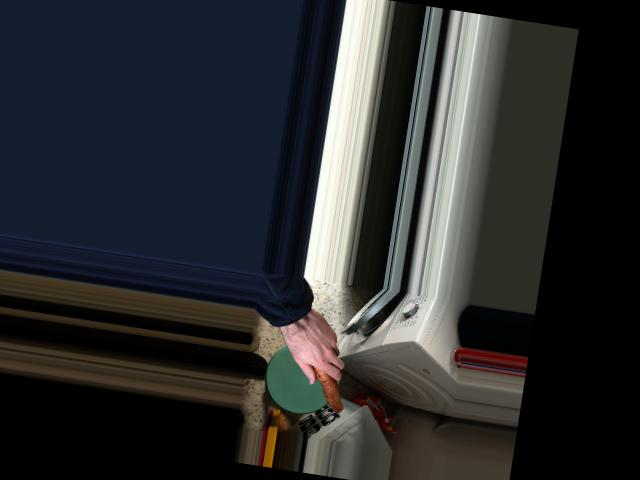sweet_potato: (288, 330, 354, 410)
